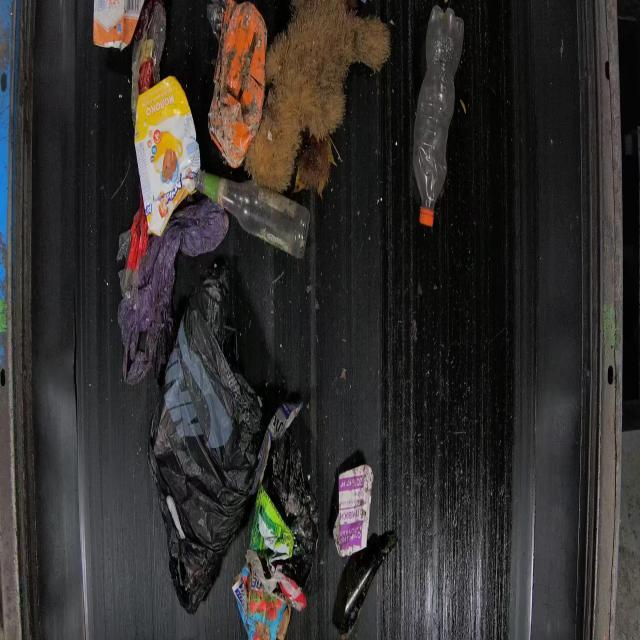cups: (195, 169, 310, 259)
paper: (132, 74, 201, 236)
